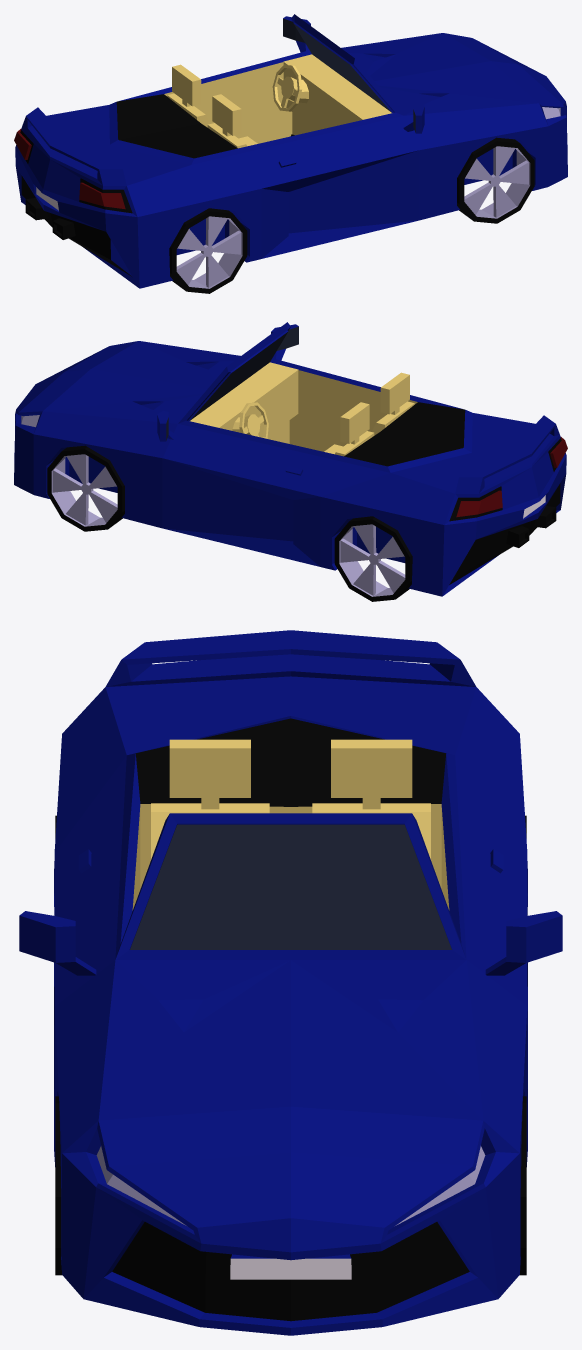
File: roadster.glb
3 renders of one model, top to bottom at view 1: azimuth 30°, elevation 25°; view 2: azimuth 150°, elevation 25°; view 3: azimuth 270°, elevation 25°, orthographic. The views are drawn at different scales.
Visible parts, largest first — view 1: body_paint, body_accent, body_trim, wheel_fr_rim, wheel_rr_rim, body_glass, wheel_fr_tire, wheel_rr_tire, body_tail; view 2: body_paint, body_accent, body_trim, wheel_fl_rim, wheel_rl_rim, body_glass, wheel_fl_tire, wheel_rl_tire, body_tail; view 3: body_paint, body_glass, body_trim, body_accent, body_chrome, body_lamp.
Boxes of the visible parts, x1=… form: body_paint: x1=15, y1=14, x2=567, y2=288; body_accent: x1=164, y1=54, x2=391, y2=148; body_trim: x1=20, y1=94, x2=294, y2=276; wheel_fr_rim: x1=464, y1=146, x2=530, y2=218; wheel_rr_rim: x1=176, y1=216, x2=242, y2=288; body_glass: x1=283, y1=18, x2=415, y2=132; wheel_fr_tire: x1=459, y1=137, x2=534, y2=223; wheel_rr_tire: x1=172, y1=208, x2=247, y2=293; body_tail: x1=14, y1=129, x2=125, y2=209; body_paint: x1=14, y1=322, x2=566, y2=596; body_accent: x1=190, y1=362, x2=417, y2=456; body_trim: x1=344, y1=402, x2=561, y2=584; wheel_fl_rim: x1=51, y1=454, x2=117, y2=526; wheel_rl_rim: x1=339, y1=524, x2=405, y2=596; body_glass: x1=166, y1=326, x2=298, y2=440; wheel_fl_tire: x1=47, y1=445, x2=122, y2=531; wheel_rl_tire: x1=334, y1=516, x2=409, y2=601; body_tail: x1=456, y1=437, x2=567, y2=517; body_paint: x1=19, y1=630, x2=562, y2=1335; body_glass: x1=130, y1=824, x2=451, y2=949; body_trim: x1=112, y1=718, x2=469, y2=1321; body_accent: x1=132, y1=739, x2=449, y2=910; body_chrome: x1=230, y1=1258, x2=351, y2=1279; body_lamp: x1=96, y1=1146, x2=485, y2=1225.
Size of the model in its own units: 5.73 by 1.84 by 2.63.
